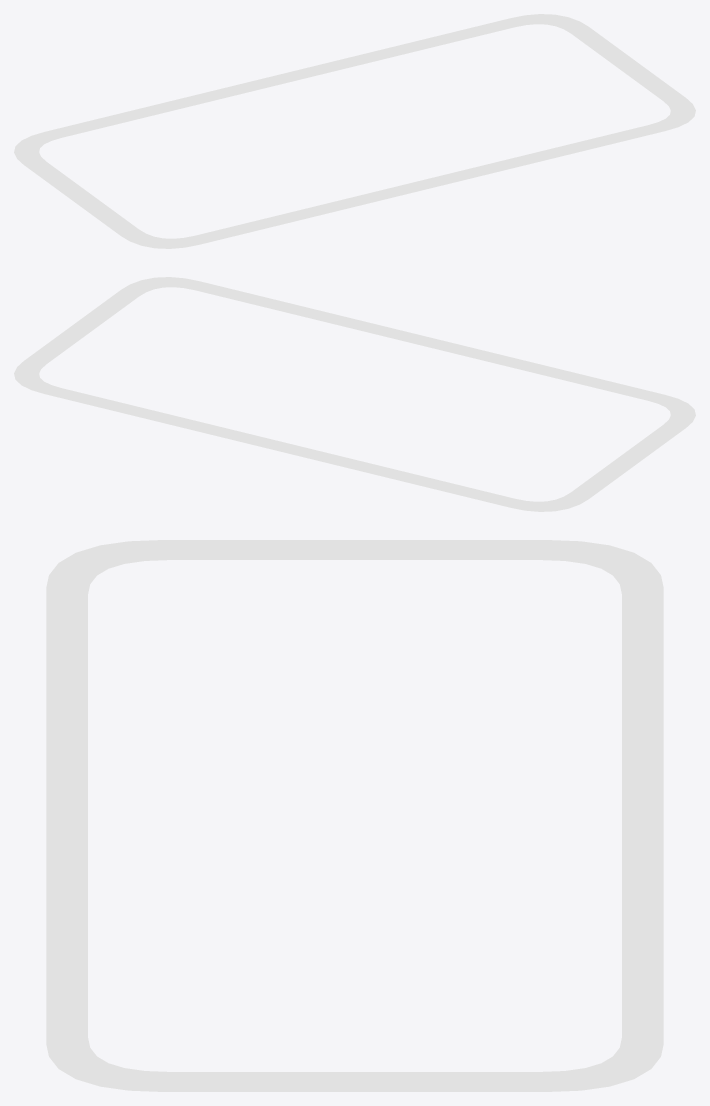
The model's file is CanBox(5)_Shadow.fbx.
3 views of the same model, one above another, from view 1: azimuth 30°, elevation 25°; view 2: azimuth 150°, elevation 25°; view 3: azimuth 270°, elevation 25° (orthographic). The views are drawn at different scales.
Visible parts, largest first — view 1: CanBox(5)_Shadow; view 2: CanBox(5)_Shadow; view 3: CanBox(5)_Shadow.
Part boxes in pixels (left/top/right/bottom): CanBox(5)_Shadow: left=14, top=14, right=695, bottom=248; CanBox(5)_Shadow: left=14, top=277, right=695, bottom=511; CanBox(5)_Shadow: left=46, top=540, right=663, bottom=1091.
Bounding box in the file's own units: 474 × 4.03e-05 × 224.
Materials: 1 (1 with a texture image).
